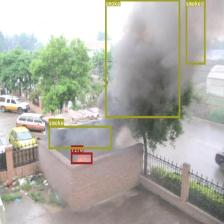fire: (71, 152, 92, 164)
smoke: (104, 0, 180, 117), (48, 125, 112, 149), (185, 0, 205, 64)
